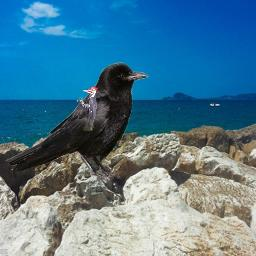Crow: (5, 62, 149, 179)
Woodpecker: (76, 87, 98, 131)
